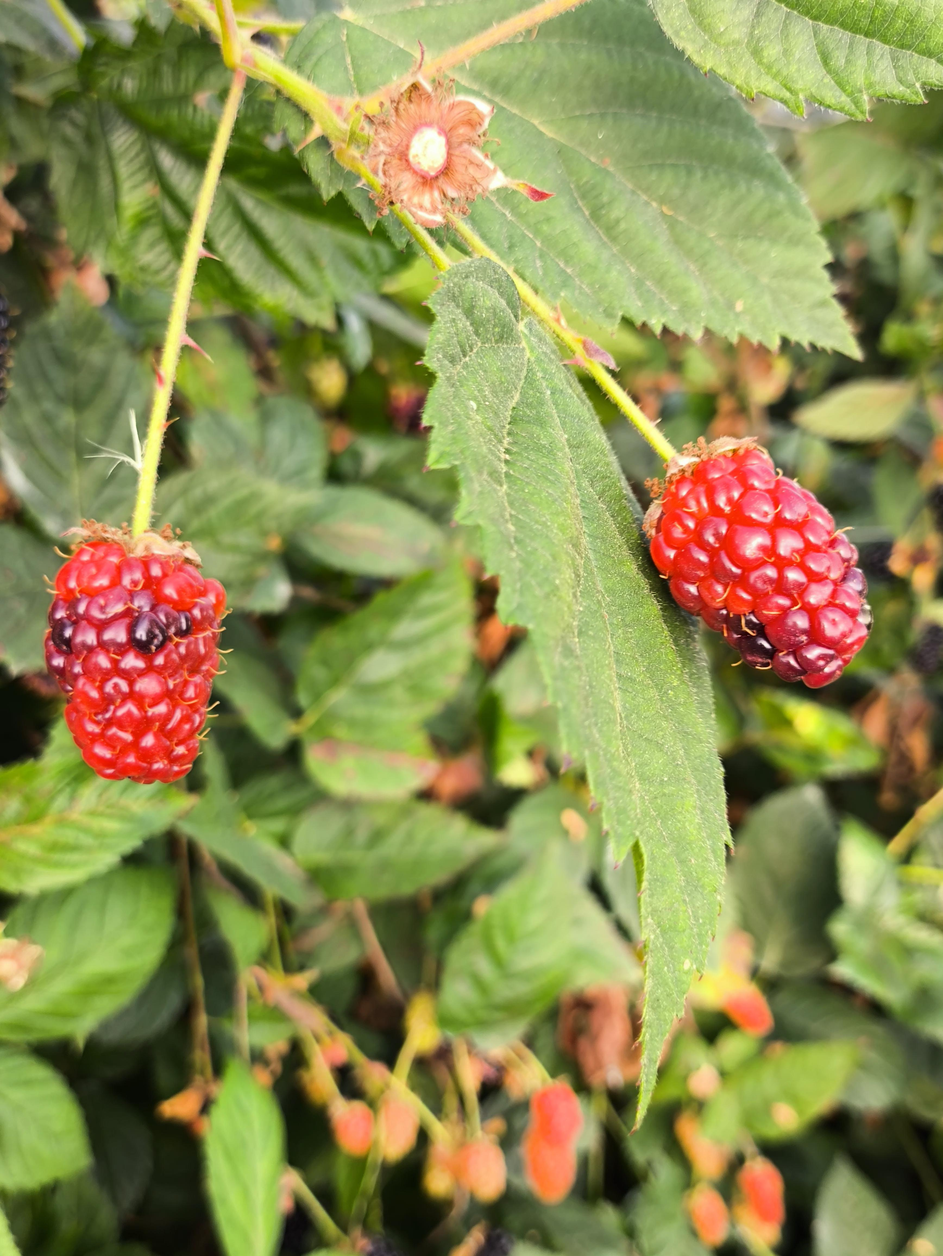marron: (648, 444, 872, 687), (49, 547, 221, 786)
naranja: (522, 1131, 576, 1204), (453, 1135, 506, 1203), (531, 1082, 582, 1143), (378, 1091, 419, 1163), (331, 1101, 374, 1157)
